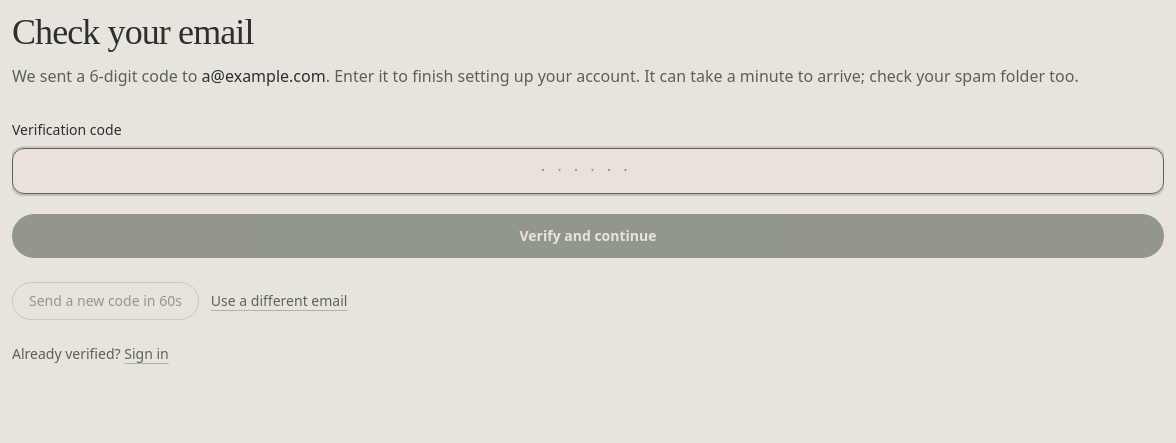
Test: VerifyEmailForm › explains a INVALID_OTP failure and stays on the form
Type "000000" into the field labelled "Verification code" at (588, 171), box [12,148,1164,194]
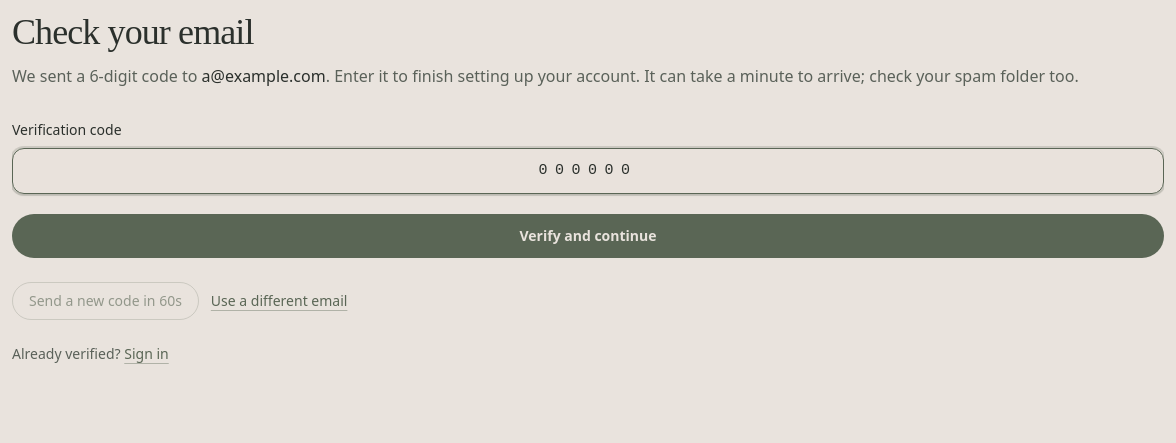
Click the button "Verify and continue" at (588, 236), box [12,214,1164,258]
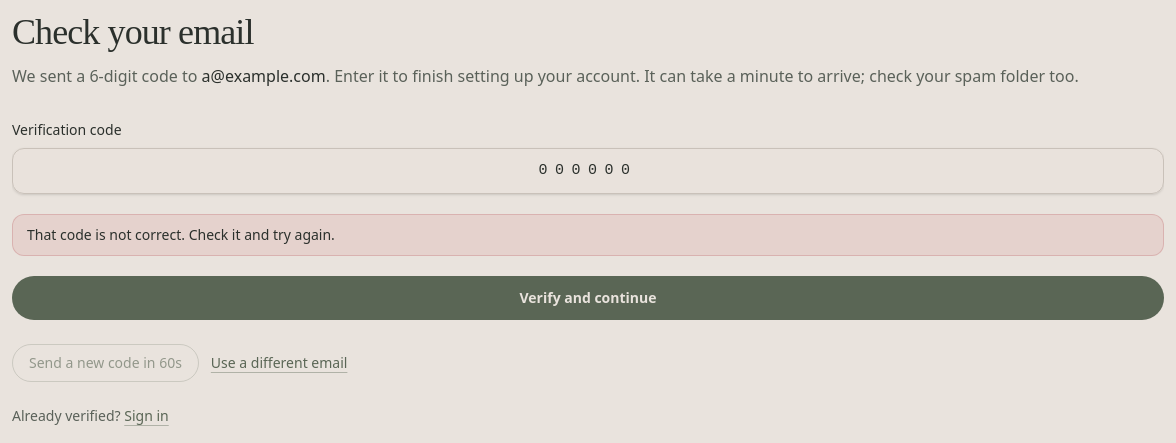
Check: the message shows "not correct", box [27,225,335,244]
